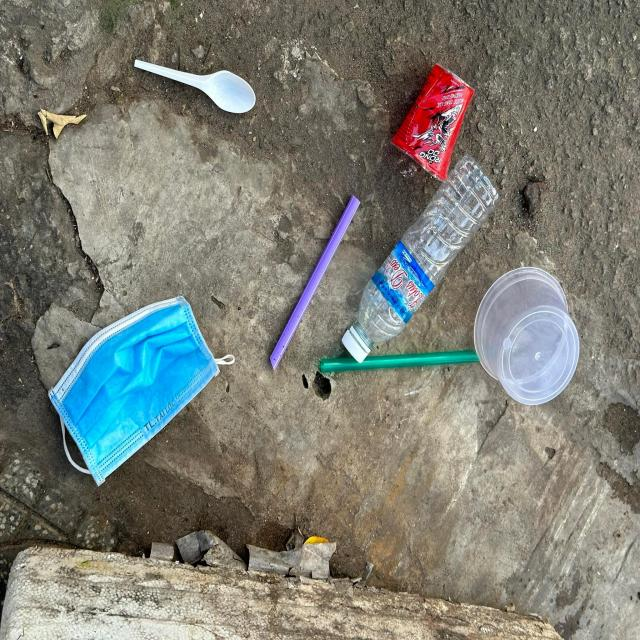bottle: (341, 156, 498, 366)
drinking straw: (264, 196, 360, 374), (318, 352, 479, 374)
mask: (48, 299, 235, 488)
plastic holder: (474, 267, 578, 406)
plastic utensil: (136, 59, 256, 113)
